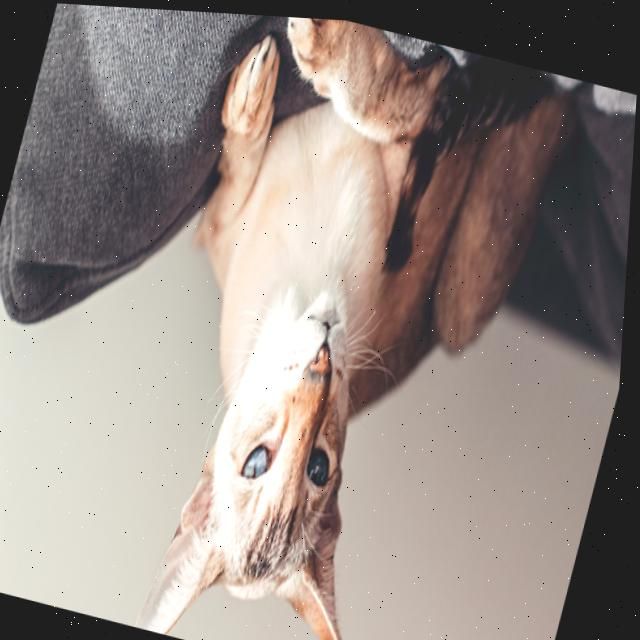Oriental: (90, 6, 596, 640)
